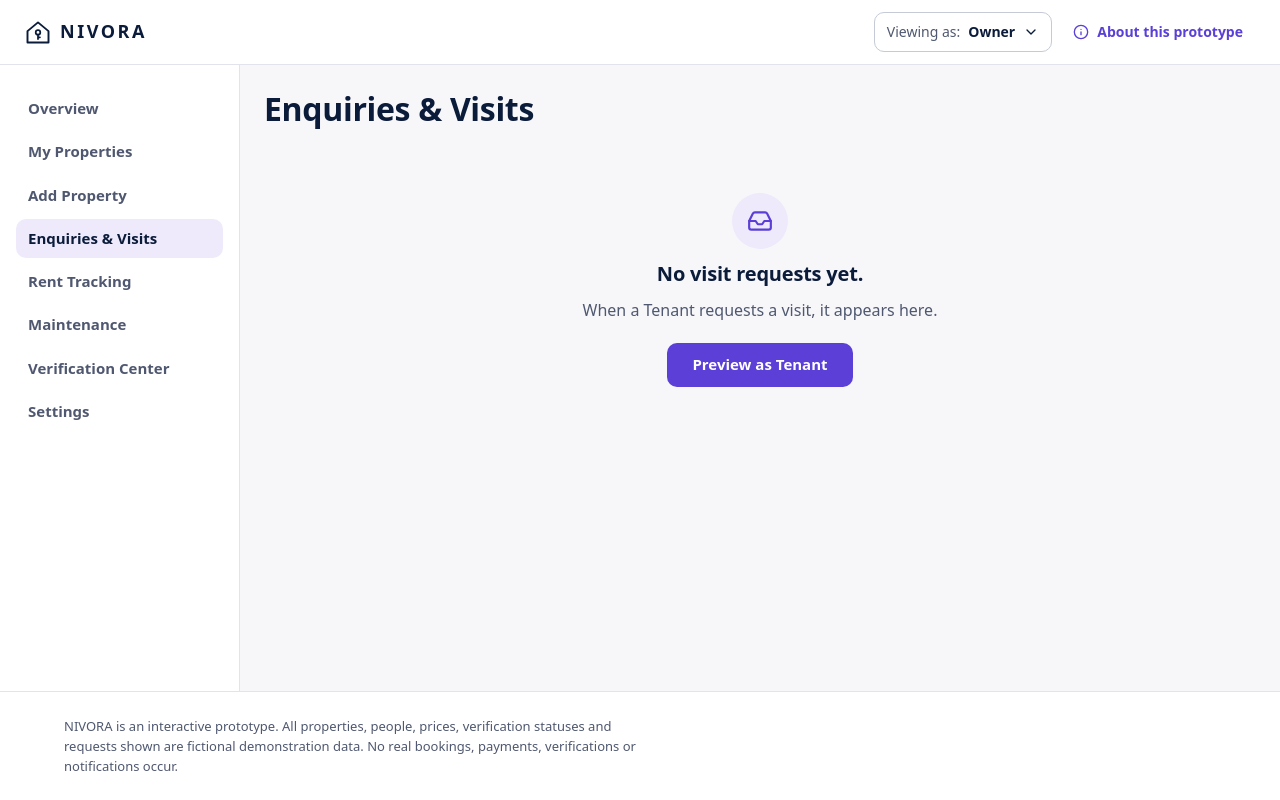
O-07 Enquiries & Visits (AC-14, AC-15, AC-23, AC-26 owner side) › shows an empty state with a Preview as Tenant shortcut when there are no requests
Expected: the heading "No visit requests yet." is shown, [657,261,863,286]
Click the button "Preview as Tenant": point(760, 365) [667,343,852,387]
(page scrolled)
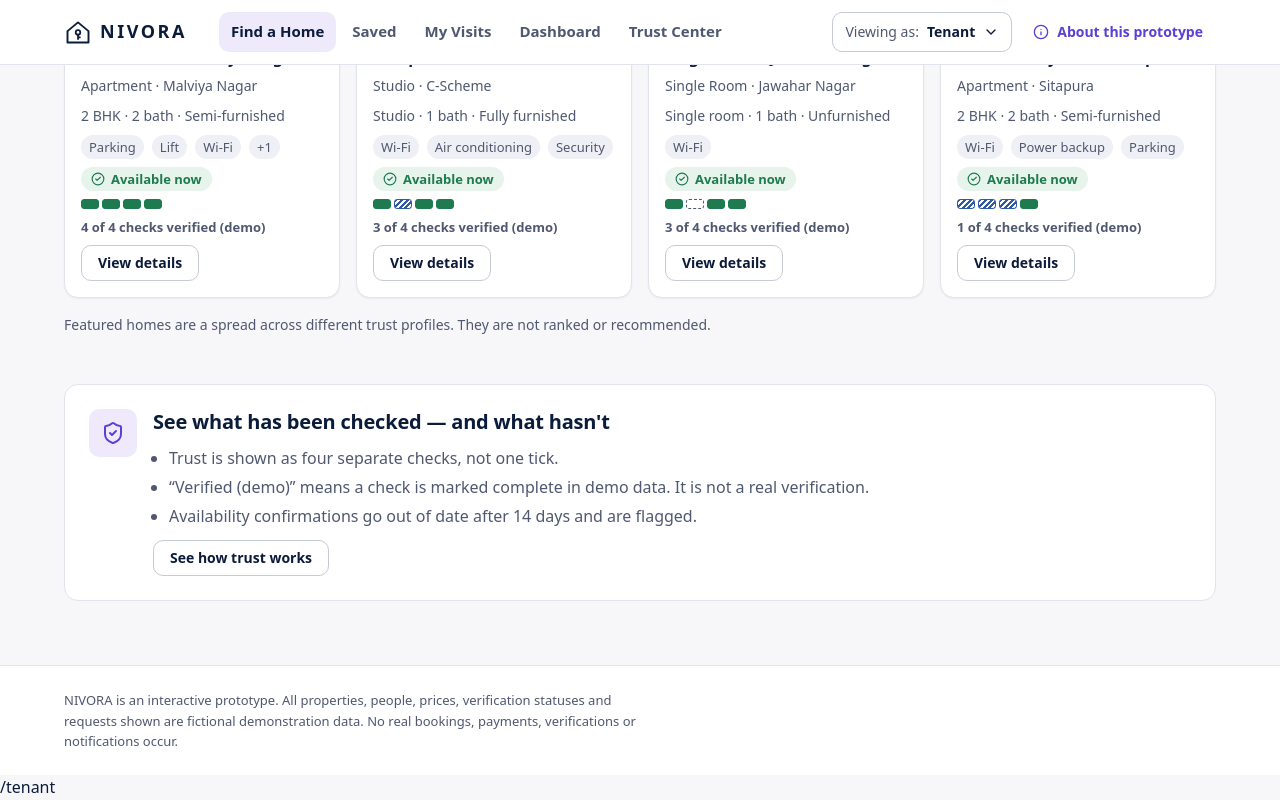
Expected: the text with test id "where" reads "/tenant", [0,776,55,798]
